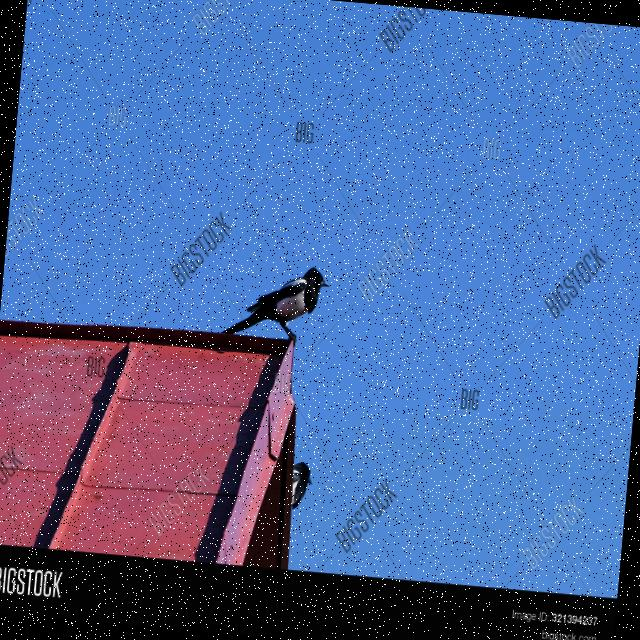bird: (219, 258, 332, 350), (288, 460, 314, 510)
